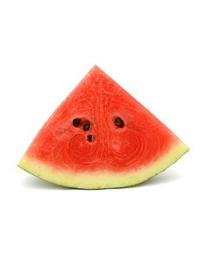watermelon: (17, 63, 190, 192)
